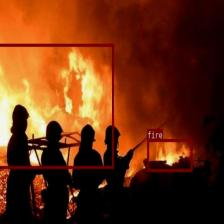fire: (0, 43, 113, 168), (147, 139, 192, 171)
